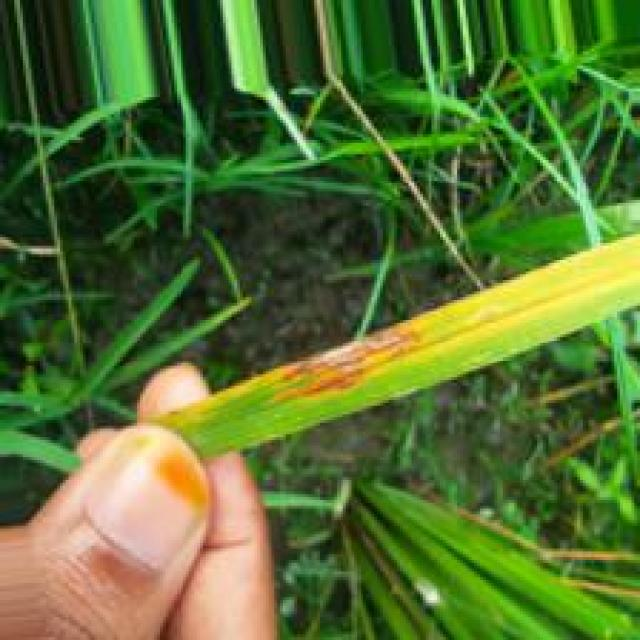Narrow_Brown_Leaf_Spot: (258, 314, 444, 415)
